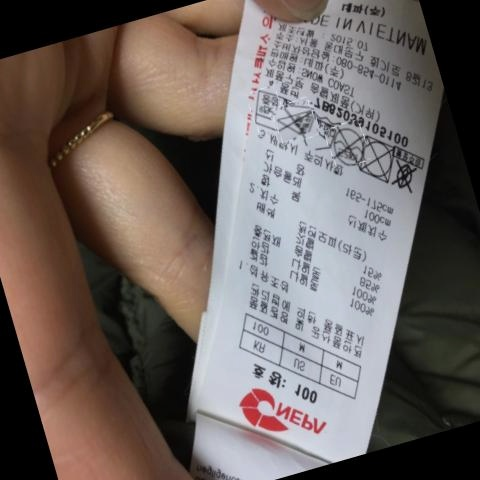DN_bleach: (279, 107, 312, 136)
DN_dry_clean: (330, 124, 361, 165)
DN_tumble_dry: (358, 135, 393, 182)
